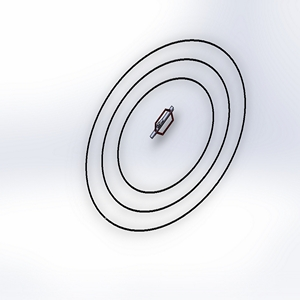circle: (82, 31, 251, 236)
submarine: (142, 102, 185, 149)
